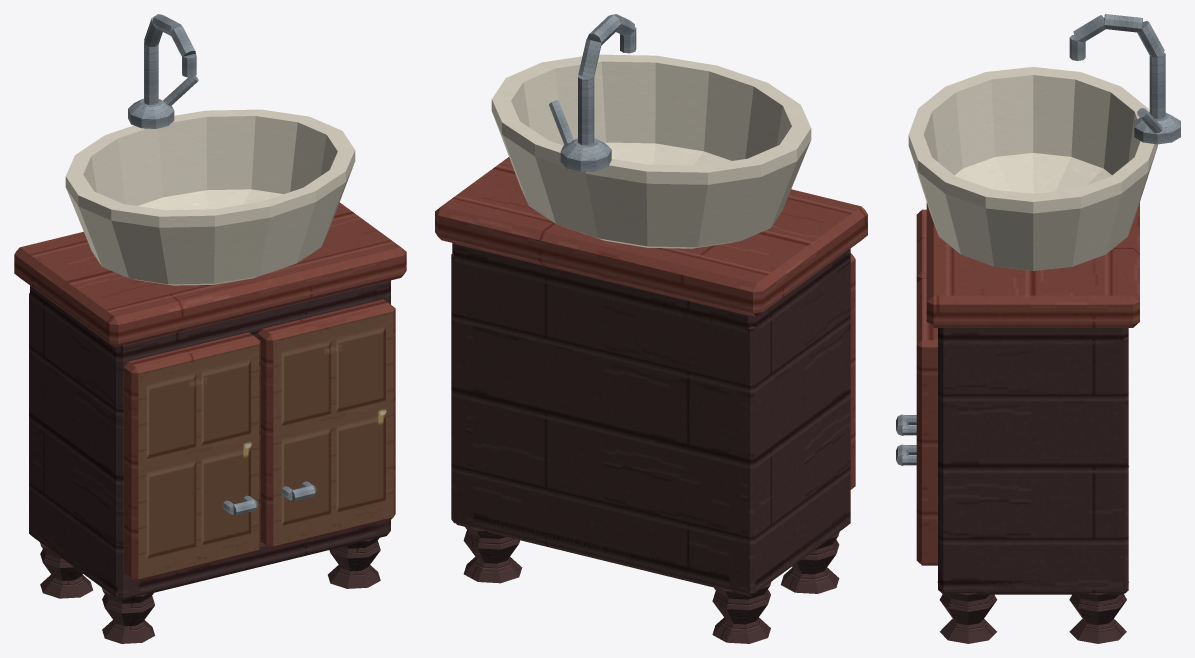
Rendered from MD_95_BasinCabinet.fbx.
3 renders of one model, left to right at view 1: azimuth 30°, elevation 25°; view 2: azimuth 150°, elevation 25°; view 3: azimuth 270°, elevation 25°, orthographic. The views are drawn at different scales.
Visible parts, largest first — view 1: MD_95_BasinCabinet_basin, MD_95_BasinCabinet_hinged_door, MD_95_BasinCabinet_hinged_door.001, MD_95_BasinCabinet_cabinet_side, MD_95_BasinCabinet_cabinet_crown, MD_95_BasinCabinet_cabinet_shelf.001, MD_95_BasinCabinet_cabinet_shelf, MD_95_BasinCabinet_turned_leg, MD_95_BasinCabinet_turned_leg.002, MD_95_BasinCabinet_turned_leg.001, MD_95_BasinCabinet_faucet_mount, MD_95_BasinCabinet_cabinet_back (+1 smaller); view 2: MD_95_BasinCabinet_cabinet_back, MD_95_BasinCabinet_basin, MD_95_BasinCabinet_cabinet_side, MD_95_BasinCabinet_cabinet_crown, MD_95_BasinCabinet_cabinet_shelf.001, MD_95_BasinCabinet_cabinet_shelf, MD_95_BasinCabinet_cabinet_side.001, MD_95_BasinCabinet_turned_leg.001, MD_95_BasinCabinet_turned_leg.003, MD_95_BasinCabinet_turned_leg, MD_95_BasinCabinet_hinged_door, MD_95_BasinCabinet_faucet_mount (+2 smaller); view 3: MD_95_BasinCabinet_cabinet_side.001, MD_95_BasinCabinet_basin, MD_95_BasinCabinet_cabinet_crown, MD_95_BasinCabinet_hinged_door.001, MD_95_BasinCabinet_cabinet_shelf.001, MD_95_BasinCabinet_cabinet_shelf, MD_95_BasinCabinet_cabinet_back, MD_95_BasinCabinet_turned_leg.003, MD_95_BasinCabinet_turned_leg.002, MD_95_BasinCabinet_gooseneck_0, MD_95_BasinCabinet_faucet_mount, MD_95_BasinCabinet_hinged_door (+3 smaller).
Boxes of the visible parts, box(x1,y1,x2,y2) form: MD_95_BasinCabinet_basin: box(65, 109, 355, 285); MD_95_BasinCabinet_hinged_door: box(124, 332, 260, 581); MD_95_BasinCabinet_hinged_door.001: box(257, 299, 395, 548); MD_95_BasinCabinet_cabinet_side: box(30, 300, 139, 596); MD_95_BasinCabinet_cabinet_crown: box(14, 202, 406, 347); MD_95_BasinCabinet_cabinet_shelf.001: box(30, 280, 390, 363); MD_95_BasinCabinet_cabinet_shelf: box(30, 517, 390, 600); MD_95_BasinCabinet_turned_leg: box(101, 587, 154, 643); MD_95_BasinCabinet_turned_leg.002: box(328, 538, 380, 588); MD_95_BasinCabinet_turned_leg.001: box(40, 542, 93, 598); MD_95_BasinCabinet_faucet_mount: box(128, 98, 174, 128); MD_95_BasinCabinet_cabinet_back: box(29, 293, 257, 536); MD_95_BasinCabinet_cabinet_back: box(451, 253, 760, 595); MD_95_BasinCabinet_basin: box(491, 54, 811, 248); MD_95_BasinCabinet_cabinet_side: box(729, 260, 850, 590); MD_95_BasinCabinet_cabinet_crown: box(435, 157, 867, 316); MD_95_BasinCabinet_cabinet_shelf.001: box(452, 243, 850, 334); MD_95_BasinCabinet_cabinet_shelf: box(454, 504, 850, 596); MD_95_BasinCabinet_cabinet_side.001: box(454, 263, 472, 524); MD_95_BasinCabinet_turned_leg.001: box(712, 581, 771, 643); MD_95_BasinCabinet_turned_leg.003: box(463, 527, 522, 583); MD_95_BasinCabinet_turned_leg: box(781, 531, 839, 593); MD_95_BasinCabinet_hinged_door: box(850, 253, 855, 489); MD_95_BasinCabinet_faucet_mount: box(560, 138, 611, 171); MD_95_BasinCabinet_cabinet_side.001: box(938, 342, 1123, 589); MD_95_BasinCabinet_basin: box(908, 67, 1157, 270); MD_95_BasinCabinet_cabinet_crown: box(926, 202, 1139, 327); MD_95_BasinCabinet_hinged_door.001: box(916, 278, 937, 565); MD_95_BasinCabinet_cabinet_shelf.001: box(938, 328, 1128, 346); MD_95_BasinCabinet_cabinet_shelf: box(938, 571, 1124, 594); MD_95_BasinCabinet_cabinet_back: box(1114, 337, 1128, 593); MD_95_BasinCabinet_turned_leg.003: box(1069, 582, 1128, 643); MD_95_BasinCabinet_turned_leg.002: box(937, 582, 996, 643); MD_95_BasinCabinet_gooseneck_0: box(1149, 52, 1165, 119); MD_95_BasinCabinet_faucet_mount: box(1134, 112, 1180, 144); MD_95_BasinCabinet_hinged_door: box(916, 209, 926, 282).
Bounding box in the file's own units: 0.81 × 1.4 × 0.6413.
5 materials, 5 textured.
